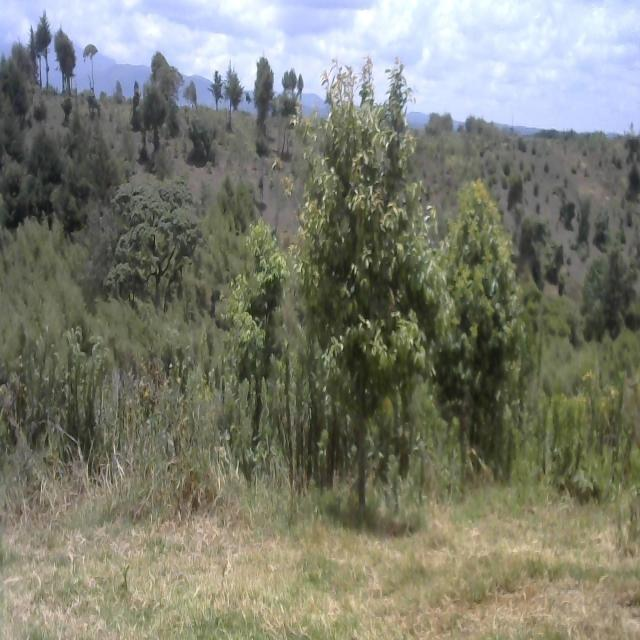Lemon Myrtle: (285, 53, 458, 478), (434, 169, 528, 439), (210, 219, 286, 422)
cedrus: (55, 22, 81, 92), (36, 10, 54, 76), (224, 57, 243, 115), (23, 20, 38, 77), (210, 65, 224, 119)
other: (112, 175, 200, 308), (138, 53, 176, 147), (250, 56, 276, 144), (80, 30, 101, 100)
